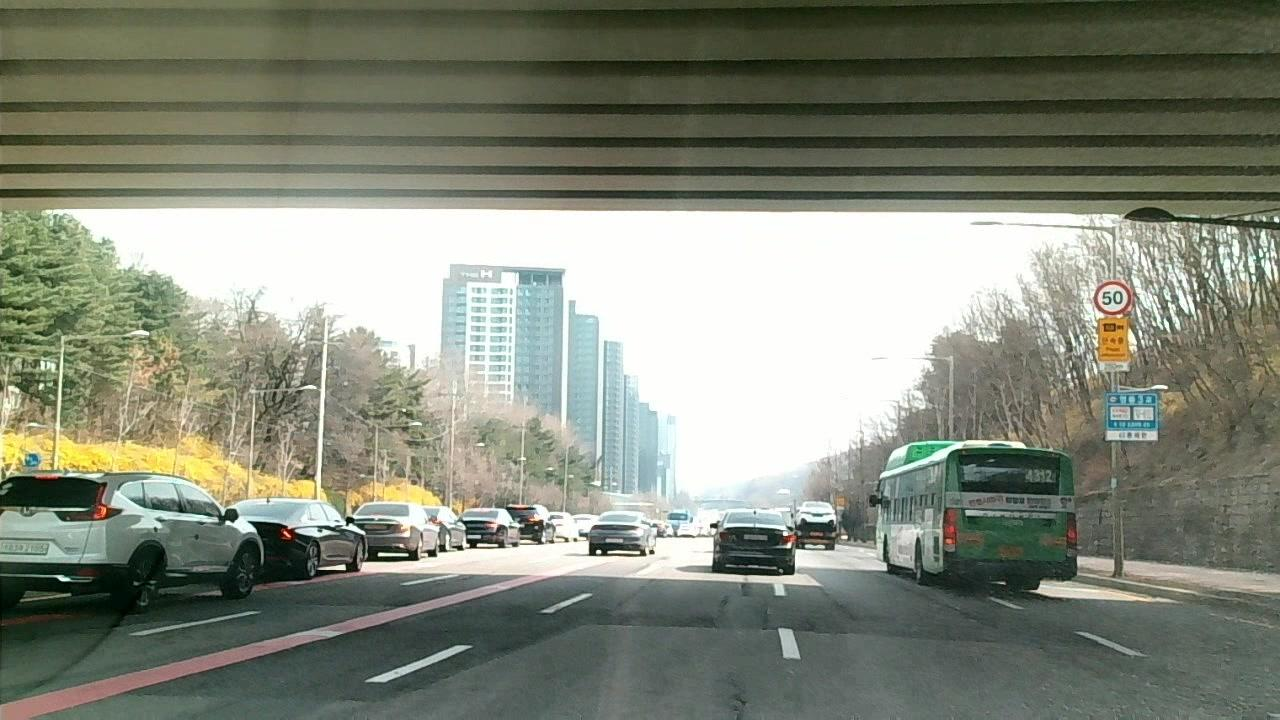vcrack: (723, 677, 749, 720)
